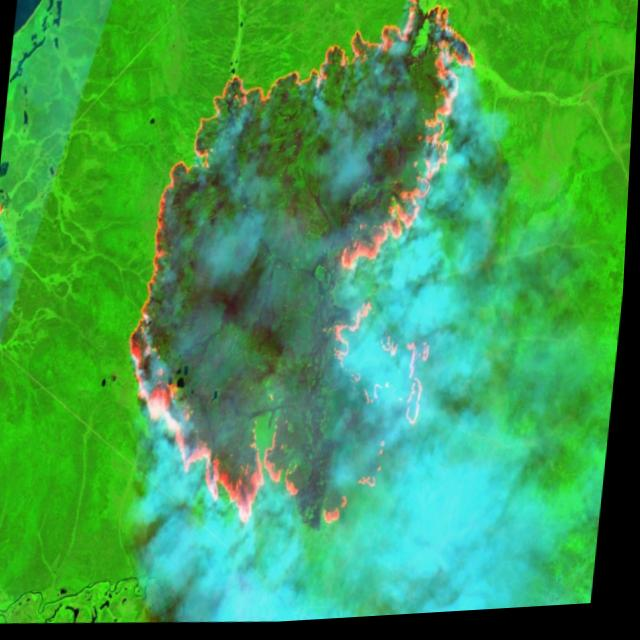fire: (113, 0, 487, 550)
